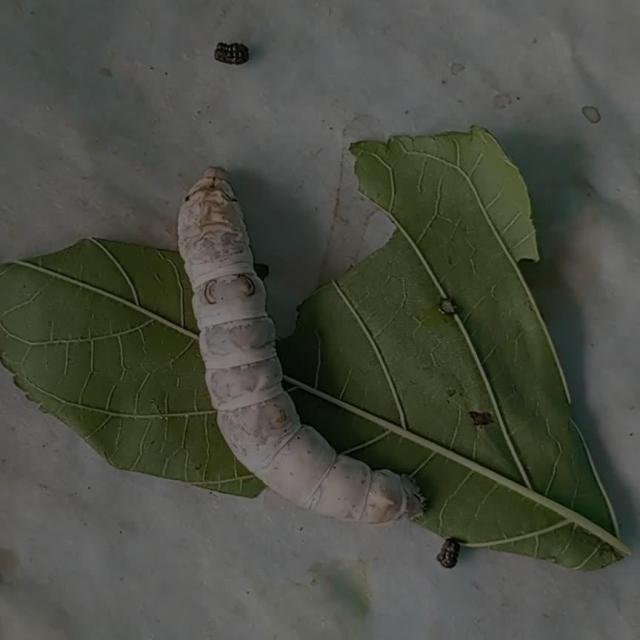Grasserie: (154, 141, 443, 546)
